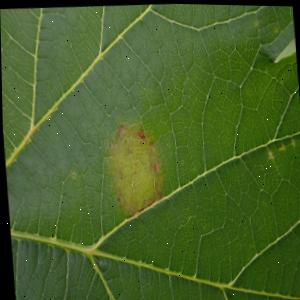Folha: (0, 0, 300, 300)
Fungo: (100, 118, 164, 217), (261, 127, 300, 159), (263, 142, 273, 158), (134, 127, 143, 138), (115, 122, 122, 135), (114, 192, 121, 203), (151, 160, 157, 170), (275, 140, 282, 148), (288, 134, 293, 144), (107, 138, 113, 146), (147, 141, 152, 149), (145, 195, 149, 203), (69, 170, 73, 176), (273, 25, 276, 29), (299, 128, 300, 136)
